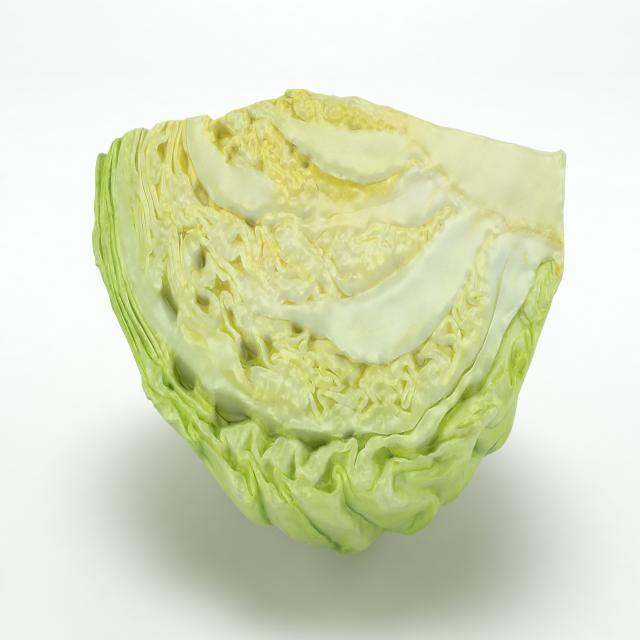cabbage: (88, 91, 572, 553)
